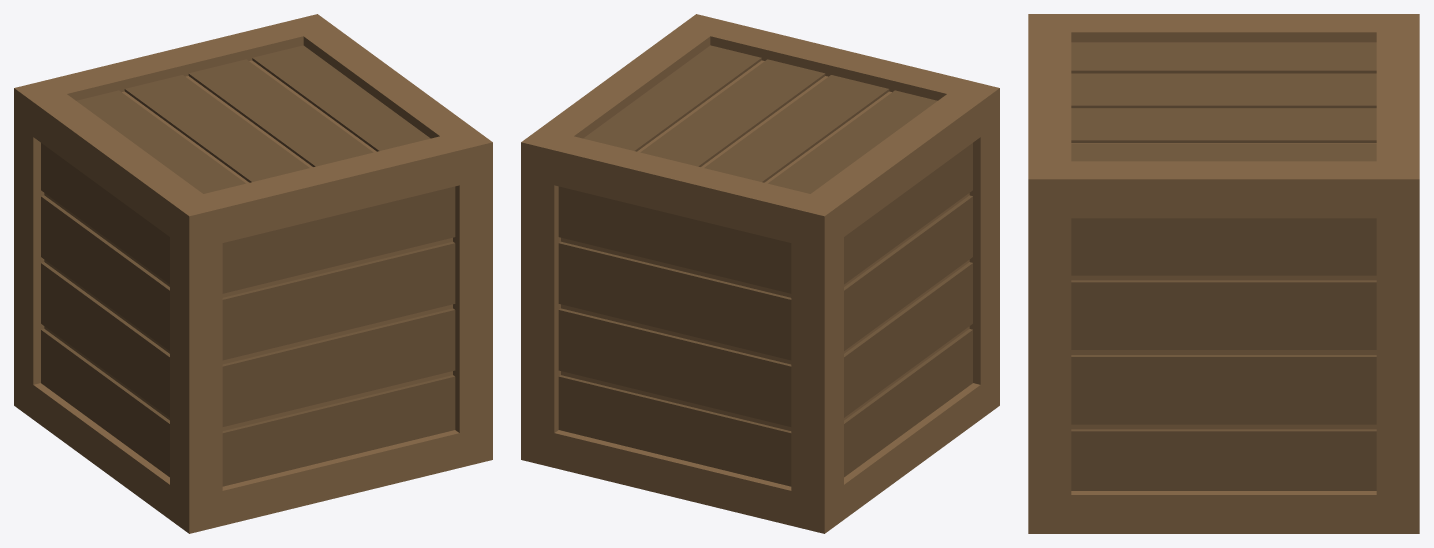
File: woodenBox.glb
3 views of the same model, side by side, from view 1: azimuth 30°, elevation 25°; view 2: azimuth 150°, elevation 25°; view 3: azimuth 270°, elevation 25° (orthographic). The views are drawn at different scales.
Parts seen in each view (by area): view 1: wooden box; view 2: wooden box; view 3: wooden box.
Part boxes in pixels (x1,y1,x2,y2): wooden box: (14, 14, 492, 533); wooden box: (521, 14, 999, 533); wooden box: (1028, 14, 1419, 533).
Size of the model in its own units: 2 by 2 by 2.
